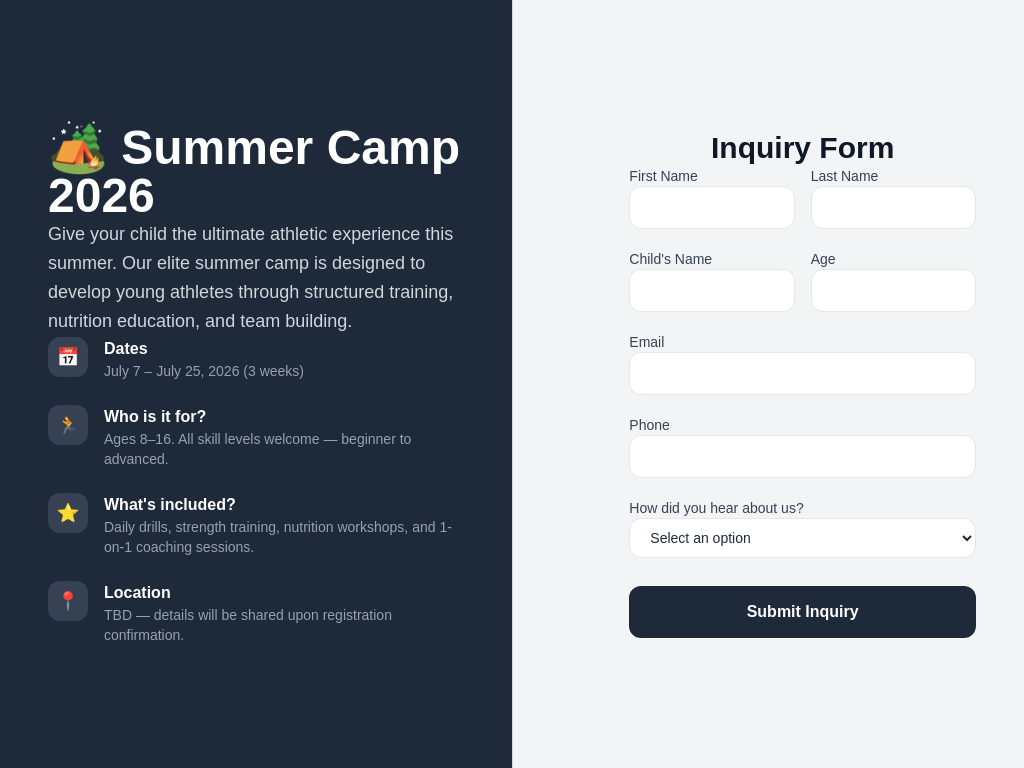
Test: SummerCamp Page › shows loading state during submission
Type "12" into the number field named "age" at (893, 291), box [811,269,976,312]
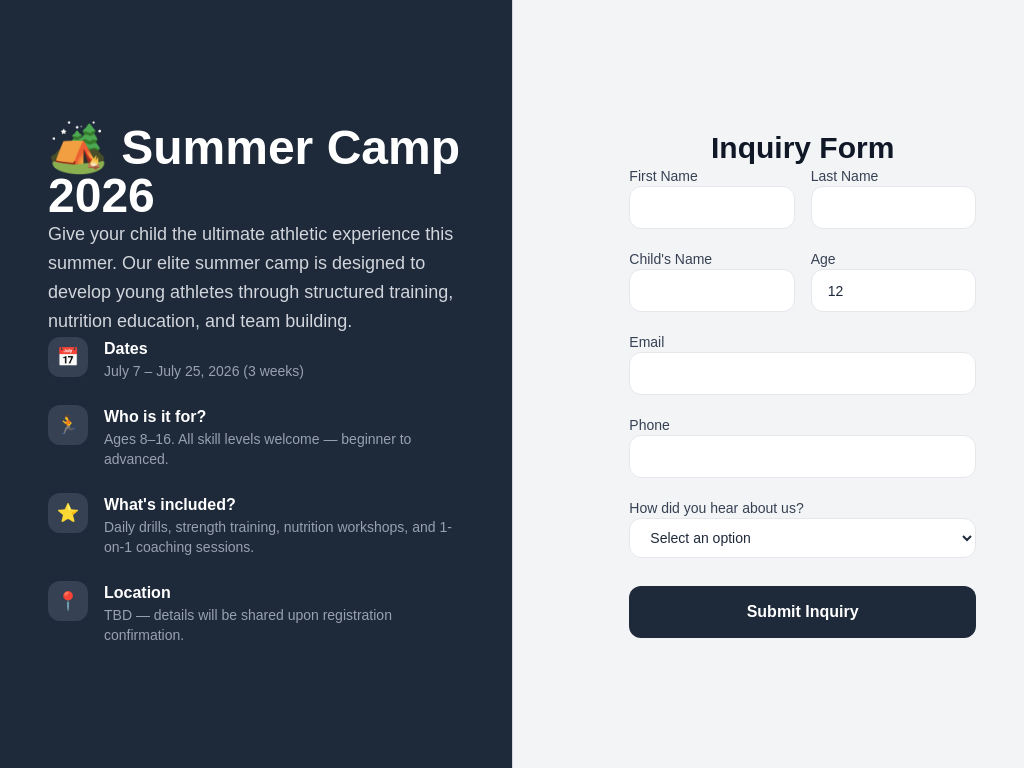
Submit the form, box [629,166,976,638]
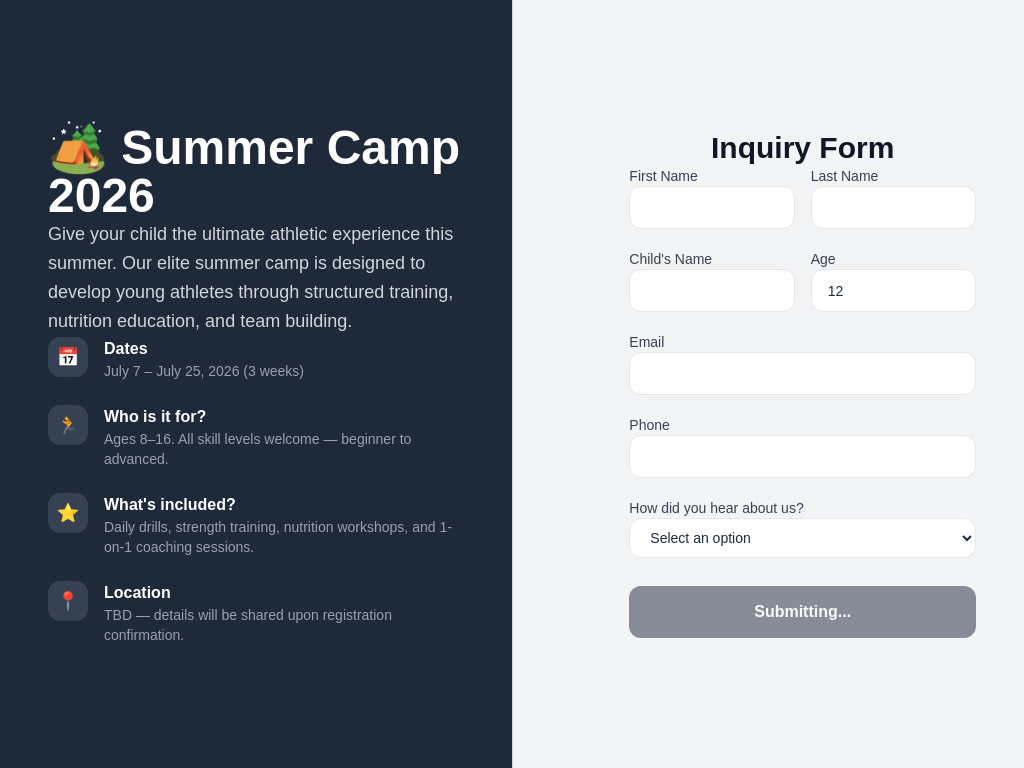
Check: the button "Submitting..." is disabled, box [629,586,976,638]
